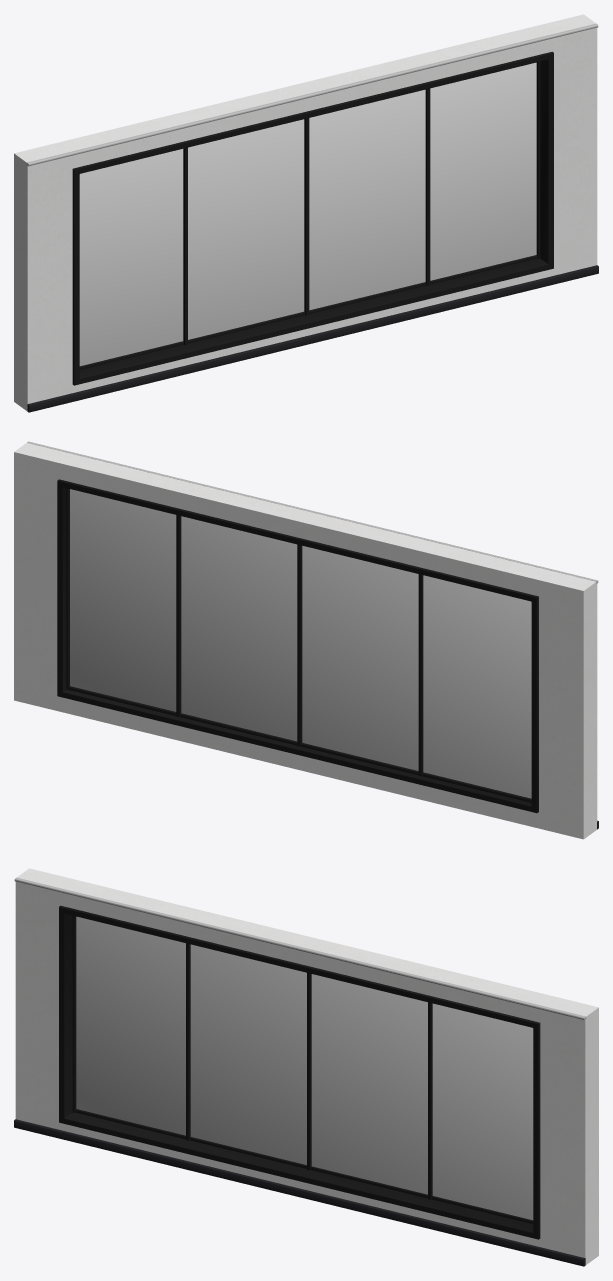
File: Wall_A.fbx
3 renders of one model, top to bottom at view 1: azimuth 30°, elevation 25°; view 2: azimuth 150°, elevation 25°; view 3: azimuth 330°, elevation 25°, orthographic.
Parts seen in each view (by area): view 1: Wall_A; view 2: Wall_A; view 3: Wall_A.
Boxes of the visible parts, x1,y1,x2,y2 form: Wall_A: (14,14,598,412); Wall_A: (14,441,598,839); Wall_A: (14,868,598,1266).
Bounding box in the file's own units: 12 × 5 × 0.6187.
